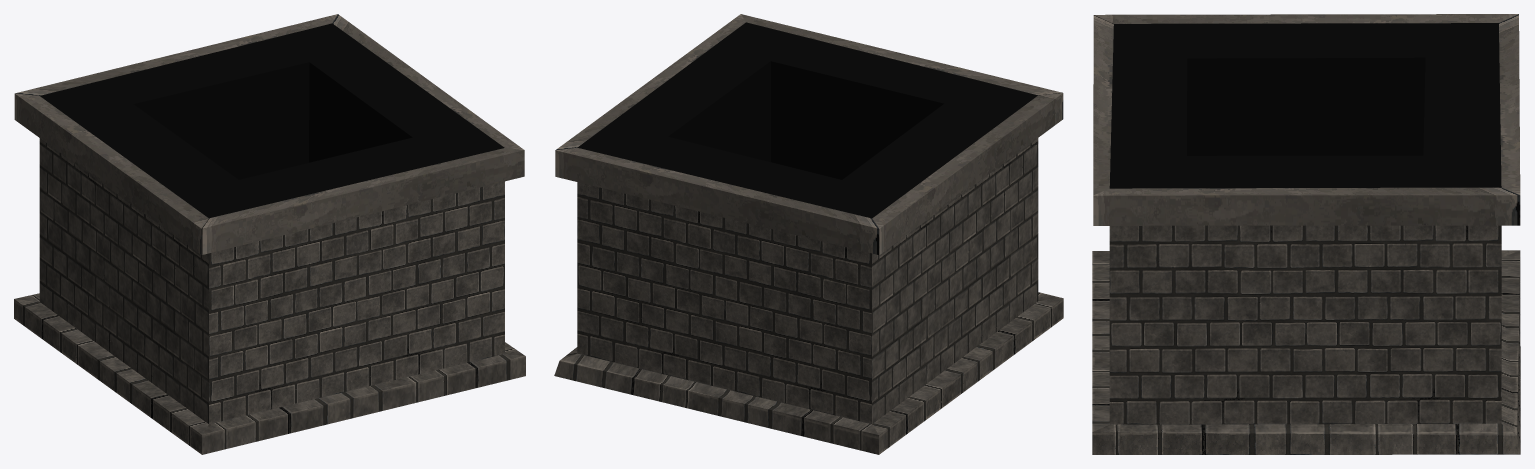
The model's file is ModularWallCorner03.fbx.
3 renders of one model, left to right at view 1: azimuth 30°, elevation 25°; view 2: azimuth 150°, elevation 25°; view 3: azimuth 270°, elevation 25°, orthographic. The views are drawn at different scales.
Visible parts, largest first — view 1: Plane; view 2: Plane; view 3: Plane.
Boxes of the visible parts, bbox=[...] form: Plane: bbox=[14, 14, 525, 454]; Plane: bbox=[554, 14, 1063, 454]; Plane: bbox=[1092, 14, 1520, 454].
Size of the model in its own units: 3.01 by 2 by 3.
Materials: 1 (1 with a texture image).
